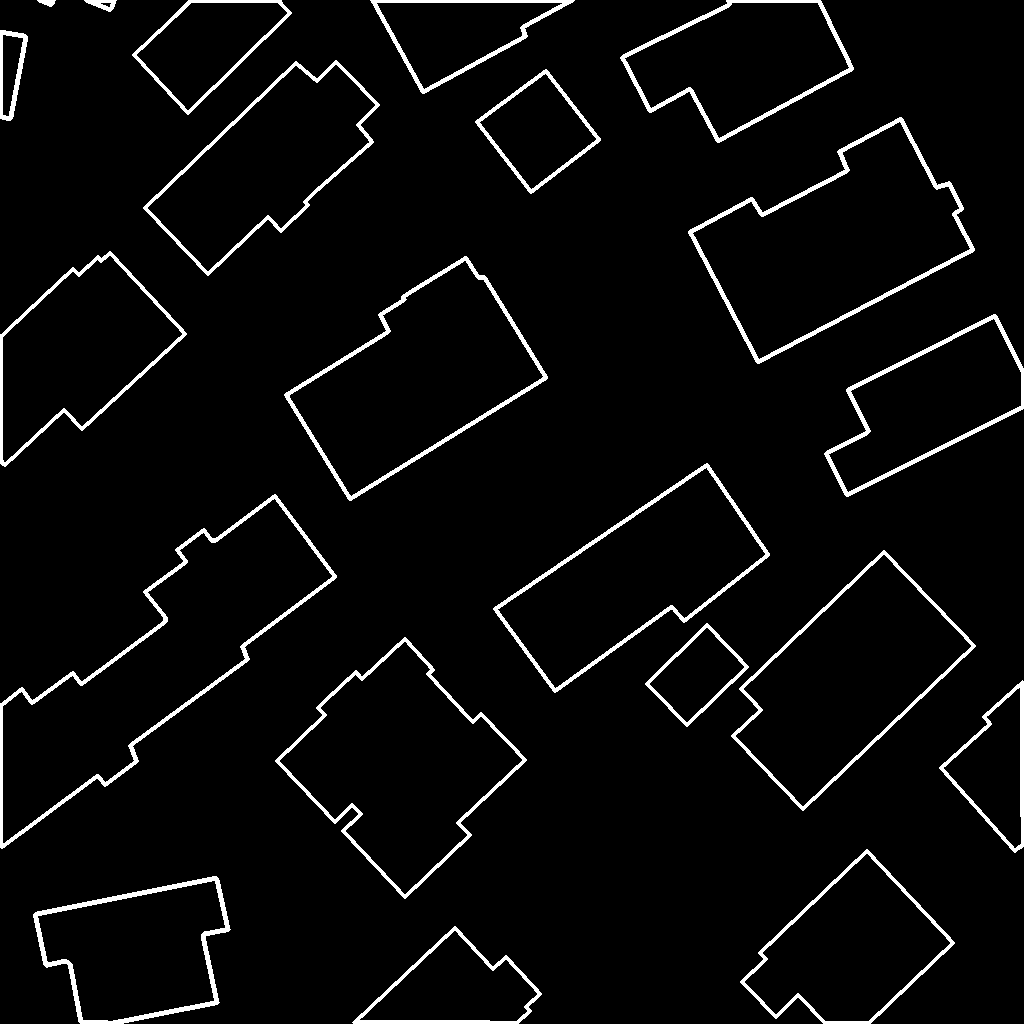building: (0, 496, 336, 848), (690, 119, 974, 363), (277, 639, 526, 898), (286, 258, 547, 500), (733, 552, 975, 810), (495, 465, 769, 692), (145, 62, 379, 275), (0, 253, 186, 466), (742, 851, 954, 1024), (826, 316, 1024, 496), (622, 0, 853, 142), (35, 878, 229, 1024), (372, 0, 574, 93), (354, 928, 541, 1024), (134, 0, 291, 114), (477, 71, 600, 193), (941, 682, 1024, 852), (647, 625, 748, 726), (0, 32, 27, 120), (38, 0, 116, 11)
